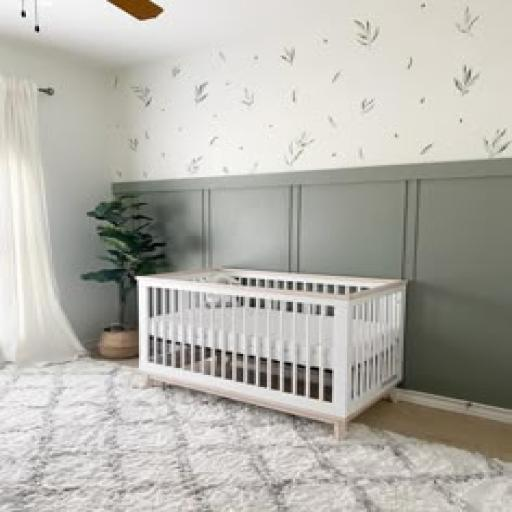crib: (139, 270, 405, 437)
